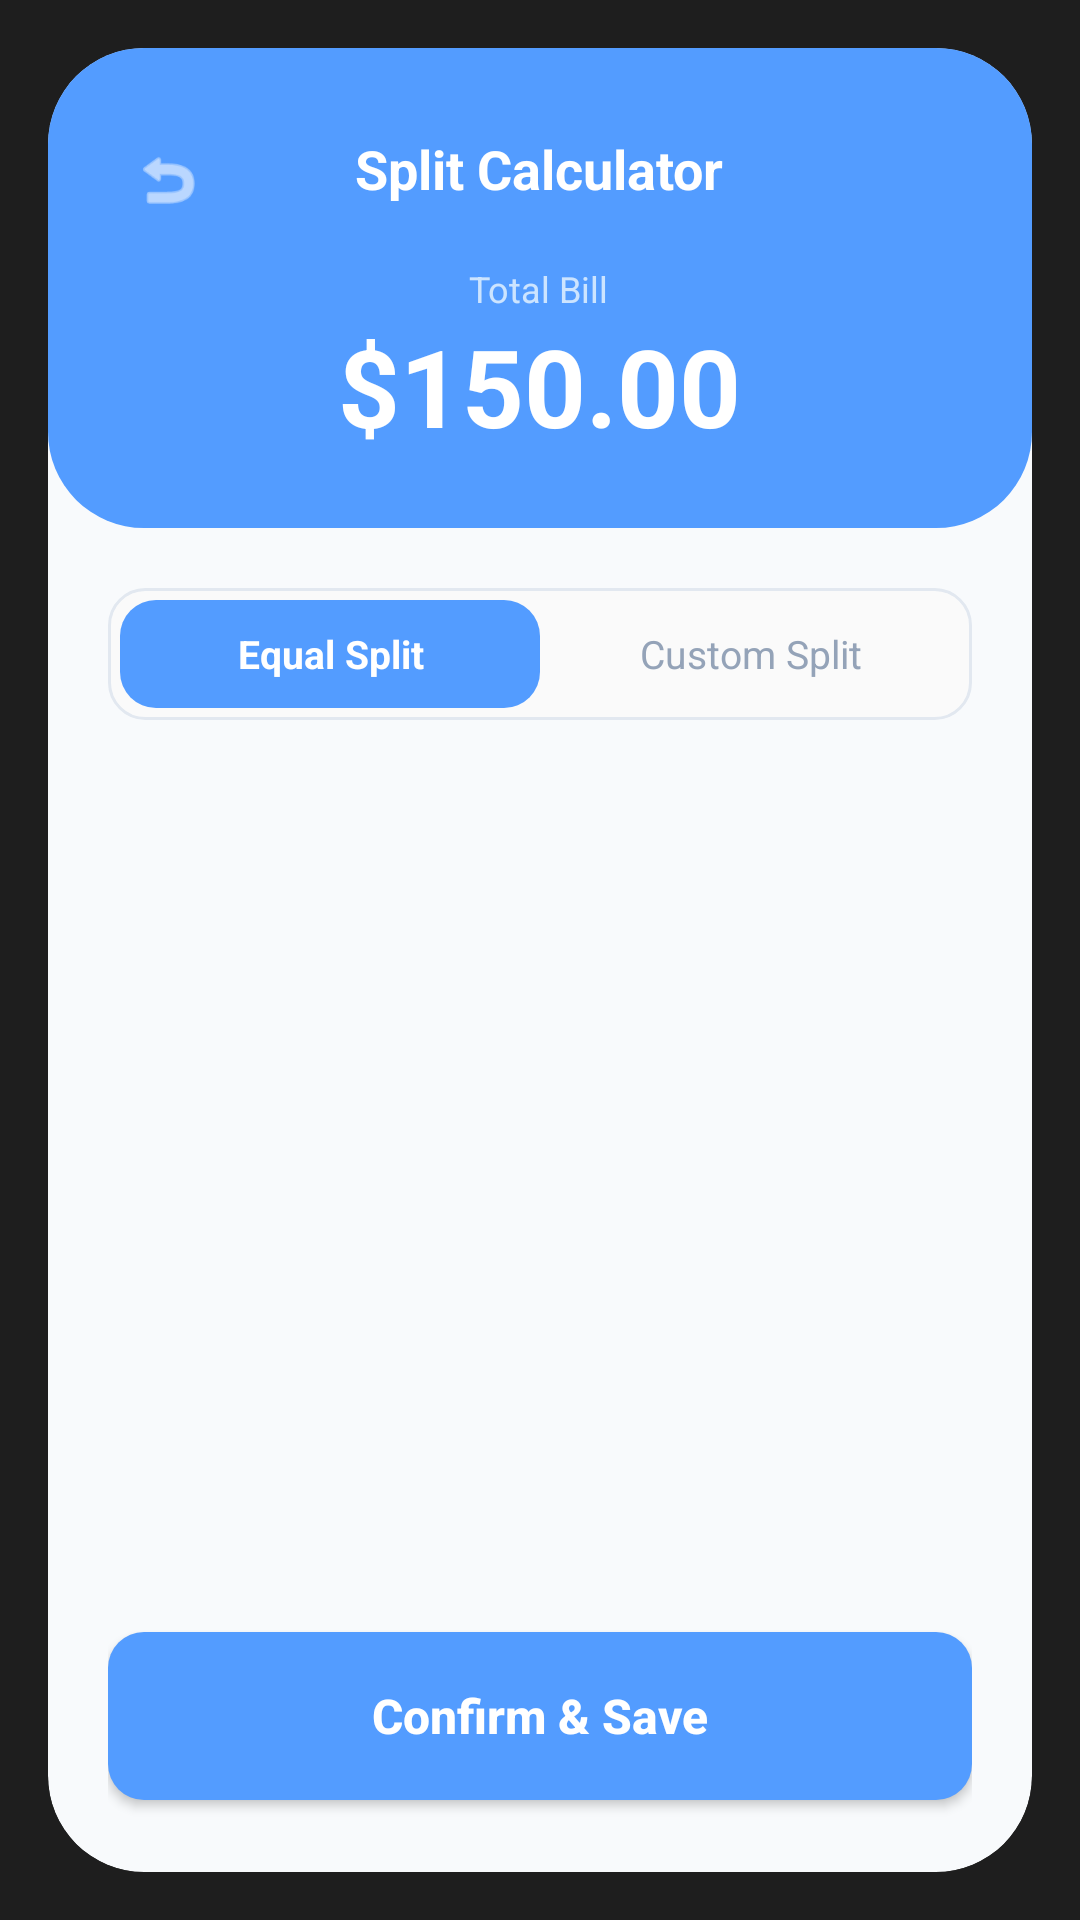

Where icons sit on this 1080w x 1920h app screen, as [left=x1, top=y1, right=x2, bottom=y2]:
revert: [left=143, top=157, right=195, bottom=204]
